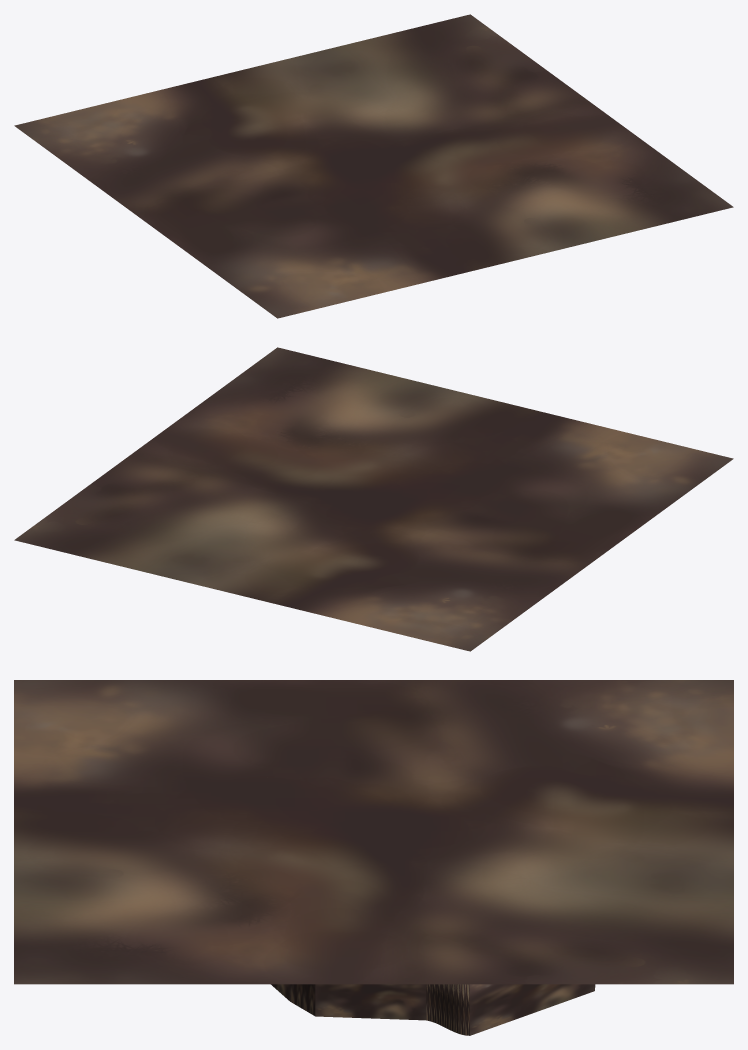
Rendered from stage2.obj.
3 renders of one model, top to bottom at view 1: azimuth 30°, elevation 25°; view 2: azimuth 150°, elevation 25°; view 3: azimuth 270°, elevation 25°, orthographic. The views are drawn at different scales.
Parts seen in each view (by area): view 1: pPlane4; view 2: pPlane4; view 3: pPlane4, pPlane3, pPlane2.
Boxes of the visible parts, box(x1,y1,x2,y2) form: pPlane4: box(14, 14, 733, 318); pPlane4: box(14, 347, 733, 651); pPlane4: box(14, 680, 733, 984); pPlane3: box(315, 984, 595, 1035); pPlane2: box(271, 984, 315, 1015).
Size of the model in its own units: 14.78 by 1.49 by 14.78.
Materials: 1 (1 with a texture image).
